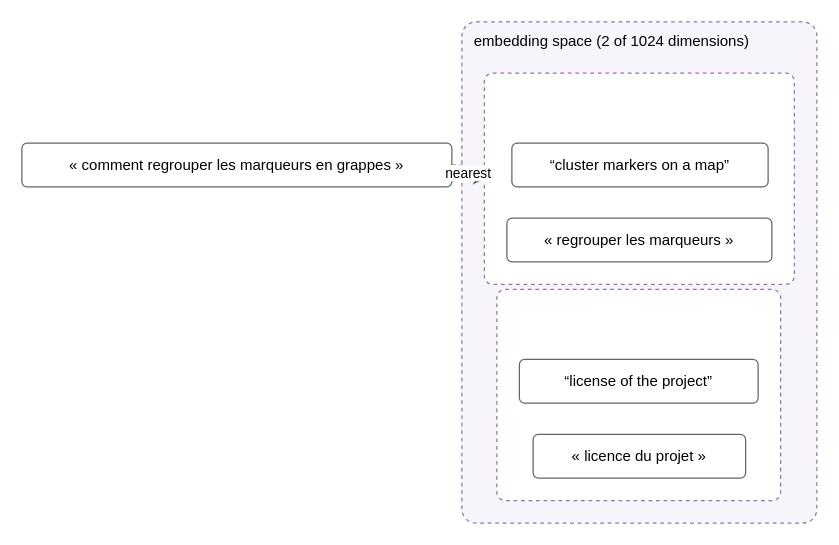
Some shapes in this 839 by 545 pixel diagram are drawn without their labels. The shapes that lost their labels are listed below. From the top down, each one's box as (x1, y1, x2, y2) in pixels, then its label:
(483, 72, 794, 284): cluster: grouping markers
(496, 288, 781, 501): cluster: licence
